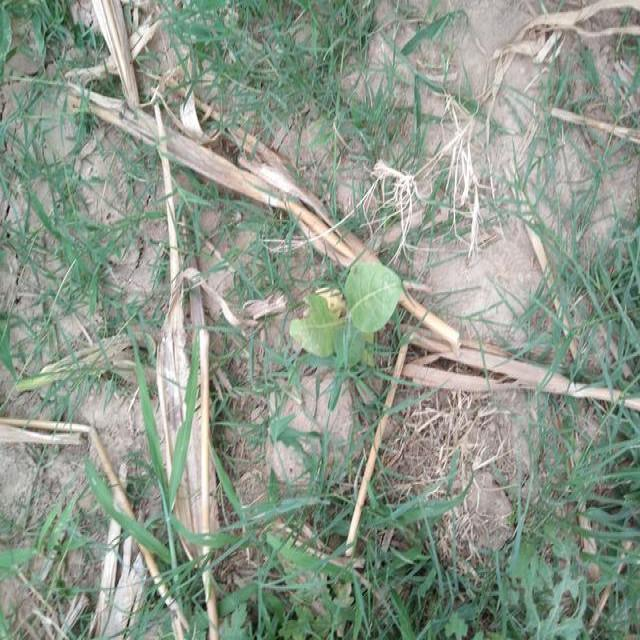crop: (292, 255, 411, 354)
